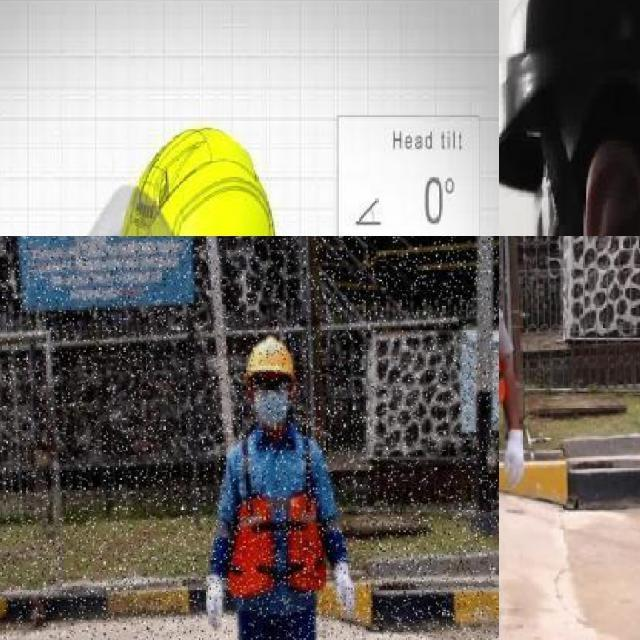apron: (330, 560, 358, 622), (502, 427, 528, 492), (202, 572, 226, 635)
